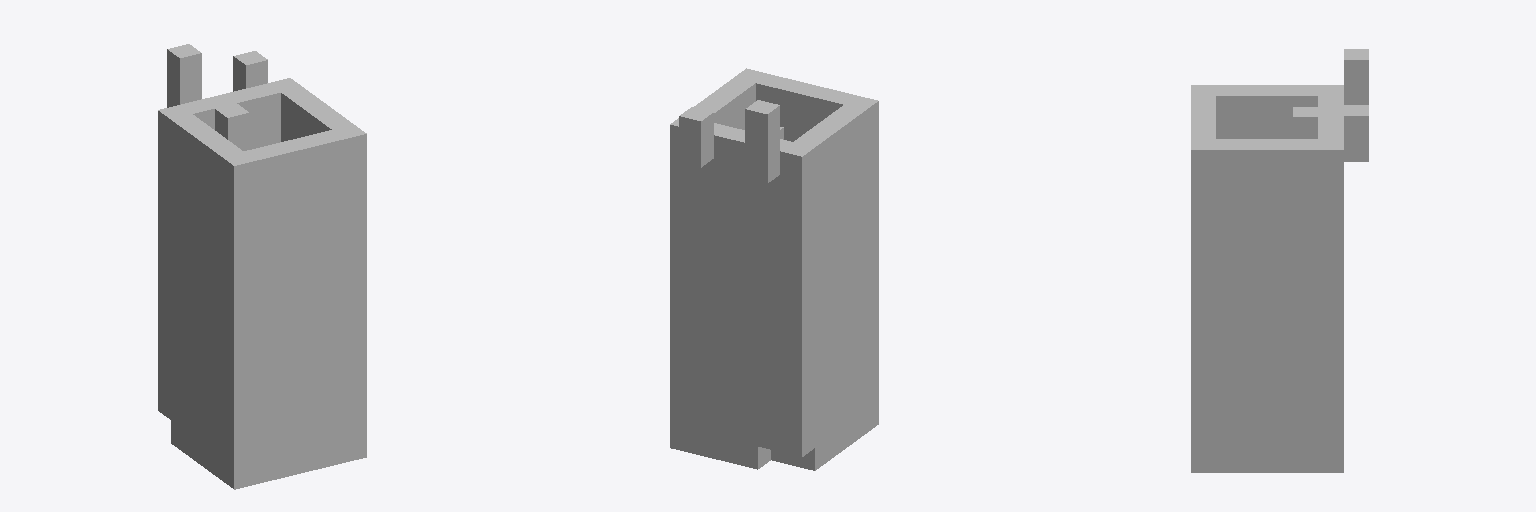
The model's file is mine.obj.
The picture shows the model from 3 angles: view 1: azimuth 30°, elevation 25°; view 2: azimuth 150°, elevation 25°; view 3: azimuth 270°, elevation 25°; orthographic projection.
Visible parts, largest first — view 1: object 1; view 2: object 1; view 3: object 1.
Part boxes in pixels (bbox=[...]): object 1: bbox=[158, 44, 366, 489]; object 1: bbox=[670, 68, 878, 470]; object 1: bbox=[1191, 49, 1368, 472].
Bounding box in the file's own units: 0.6 × 1.6 × 0.7.